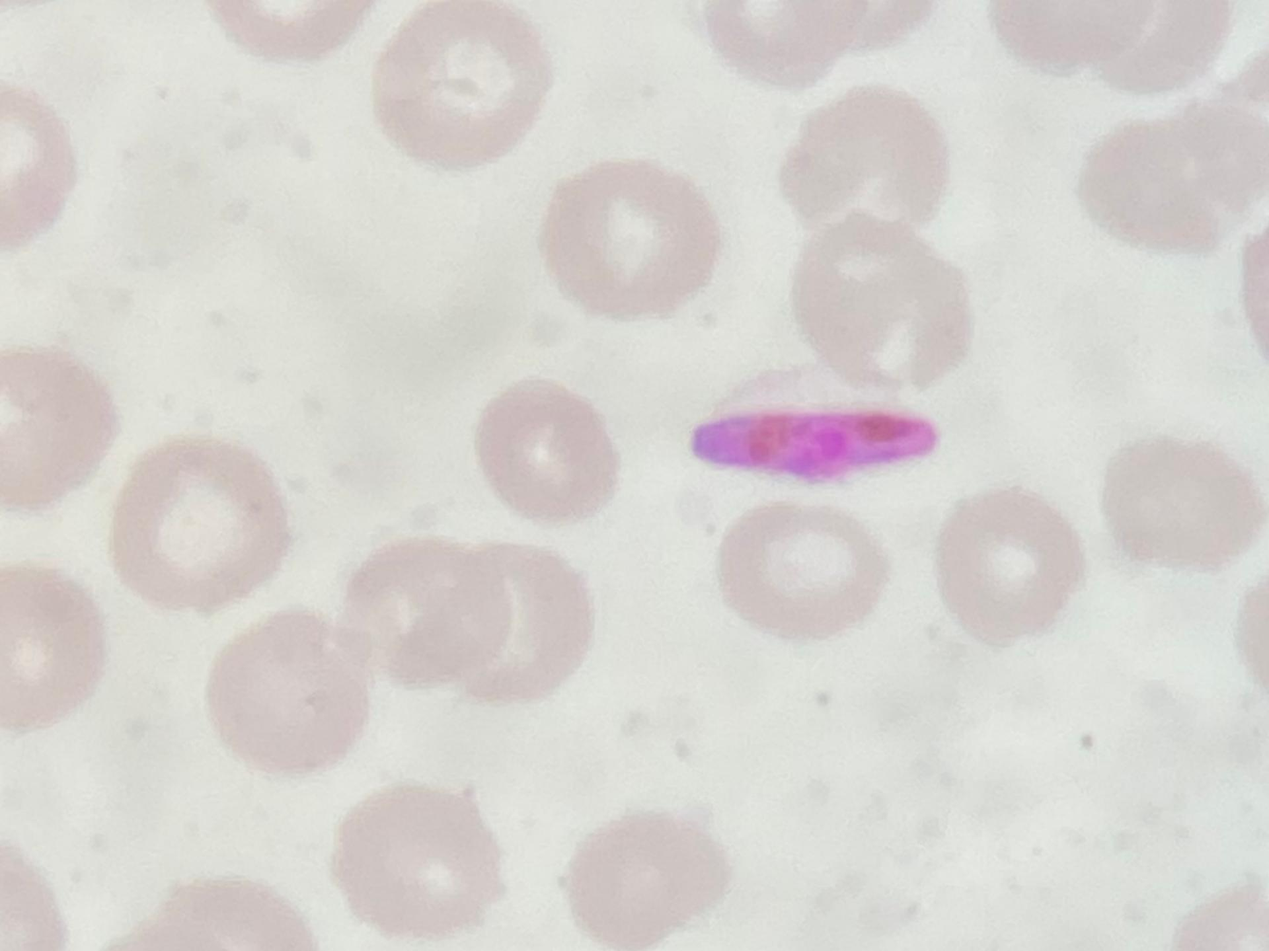Infected: (687, 364, 943, 477)
Uninfected: (347, 535, 591, 704), (110, 439, 291, 611), (542, 157, 726, 324), (793, 216, 971, 387), (373, 3, 553, 169), (1078, 100, 1265, 254), (332, 784, 509, 942), (208, 611, 376, 775), (714, 502, 891, 638), (782, 87, 951, 226), (933, 488, 1084, 643), (564, 810, 728, 949), (1100, 434, 1260, 572), (473, 380, 617, 521), (3, 347, 119, 507), (1, 566, 108, 730)
